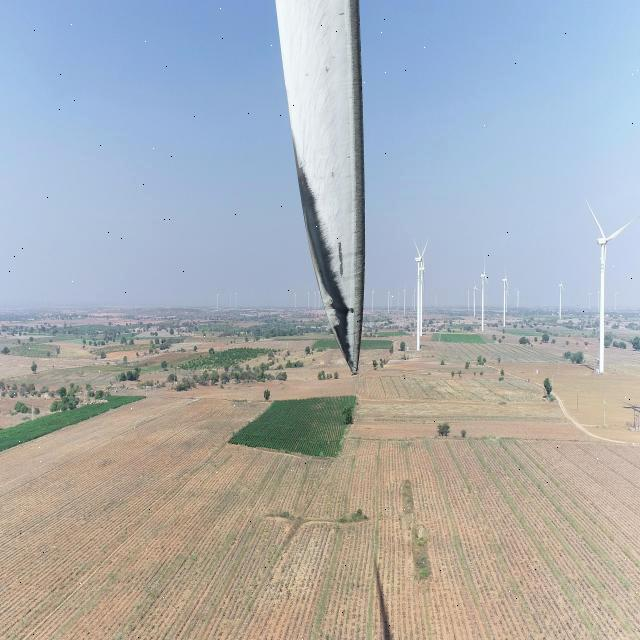Dirt: (274, 0, 365, 362)
Oil LEAKAGE: (296, 167, 355, 369)
Pin Hole: (325, 166, 343, 182), (337, 304, 355, 318), (339, 8, 348, 20), (324, 64, 334, 72)
